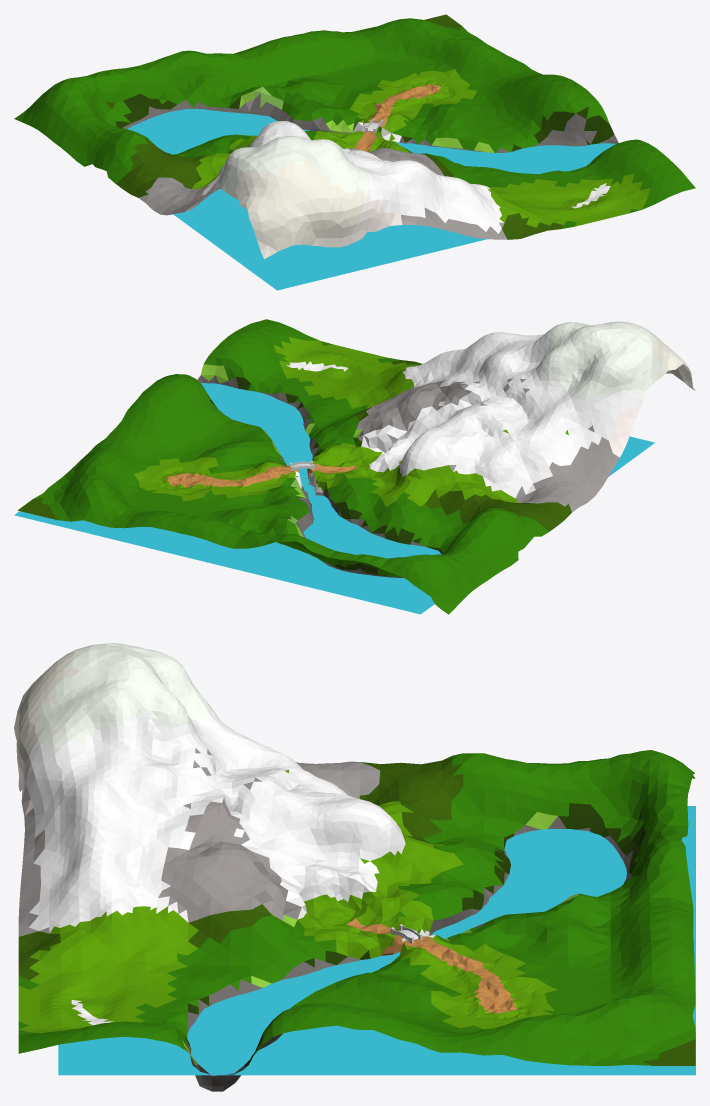
File: FinalLandscape.fbx
3 renders of one model, top to bottom at view 1: azimuth 30°, elevation 25°; view 2: azimuth 150°, elevation 25°; view 3: azimuth 270°, elevation 25°, orthographic. The views are drawn at different scales.
Visible parts, largest first — view 1: Plane, Plane.001; view 2: Plane, Plane.001; view 3: Plane, Plane.001.
Boxes of the visible parts, x1,y1,x2,y2 form: Plane: (14,14,695,258); Plane.001: (127,109,615,290); Plane: (17,319,695,614); Plane.001: (14,383,654,614); Plane: (14,643,695,1091); Plane.001: (58,806,695,1075).
Bounding box in the file's own units: 11440 × 3770 × 11383.
